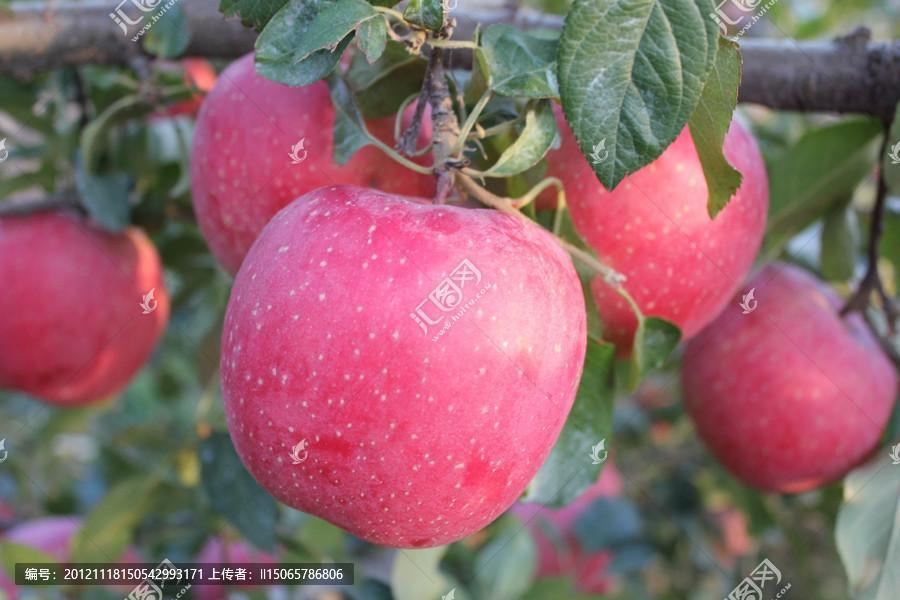apple: (216, 188, 586, 548), (536, 100, 771, 349), (684, 265, 898, 495)
